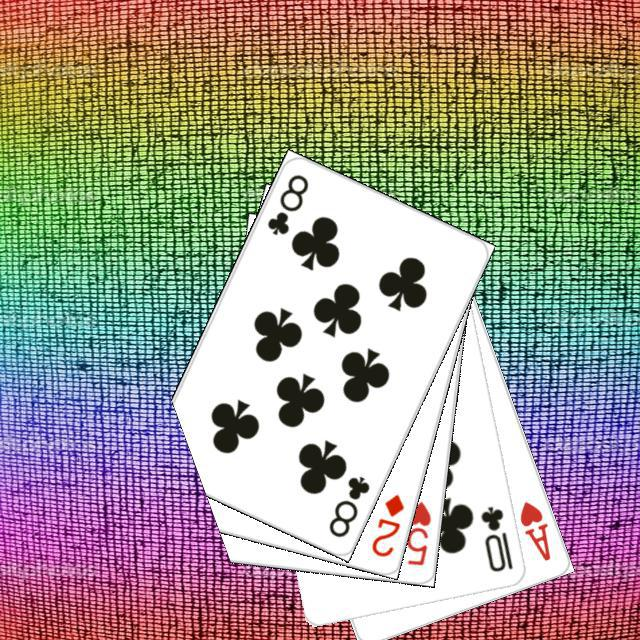10c: (476, 501, 515, 574)
2d: (366, 489, 406, 559)
5h: (401, 496, 433, 568)
8c: (323, 471, 372, 539), (262, 169, 311, 237)
Ah: (514, 496, 553, 563)
